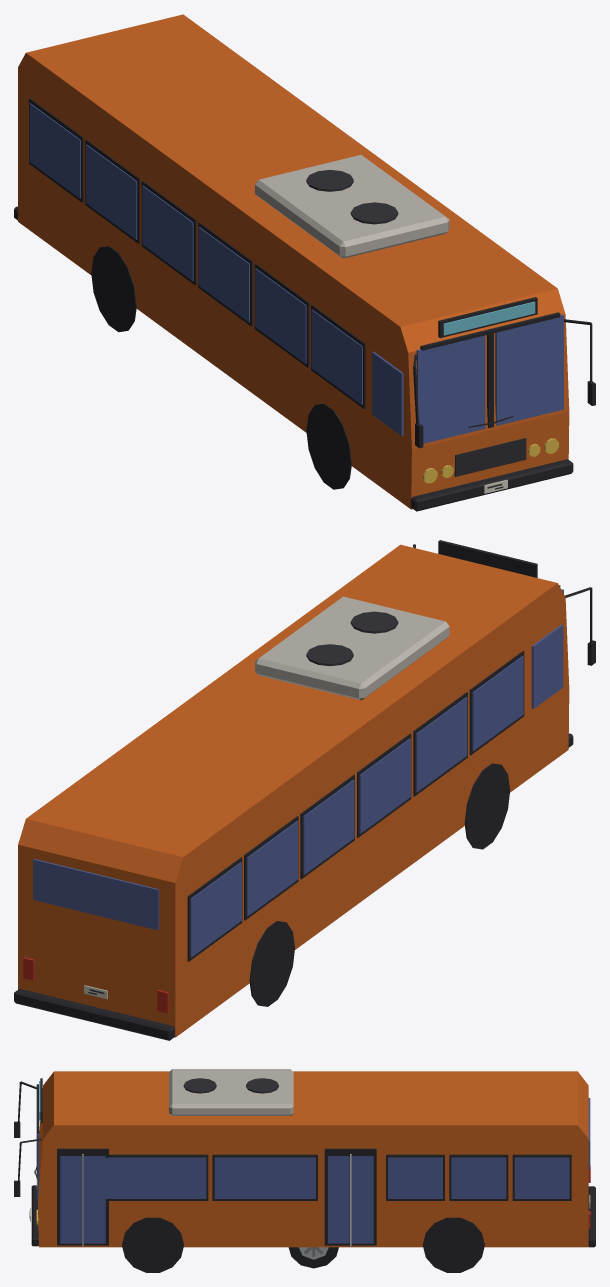
The model's file is bus.glb.
3 renders of one model, top to bottom at view 1: azimuth 30°, elevation 25°; view 2: azimuth 150°, elevation 25°; view 3: azimuth 270°, elevation 25°, orthographic. The views are drawn at different scales.
Visible parts, largest first — view 1: body, lights; view 2: body; view 3: body, wheel0.
Part boxes in pixels (x1,y1,x2,y2): body: [14, 14, 595, 511]; lights: [423, 301, 558, 483]; body: [14, 540, 595, 1040]; body: [14, 1069, 595, 1272]; wheel0: [288, 1247, 338, 1268].
Size of the model in its own units: 2.78 by 3.83 by 11.22.
